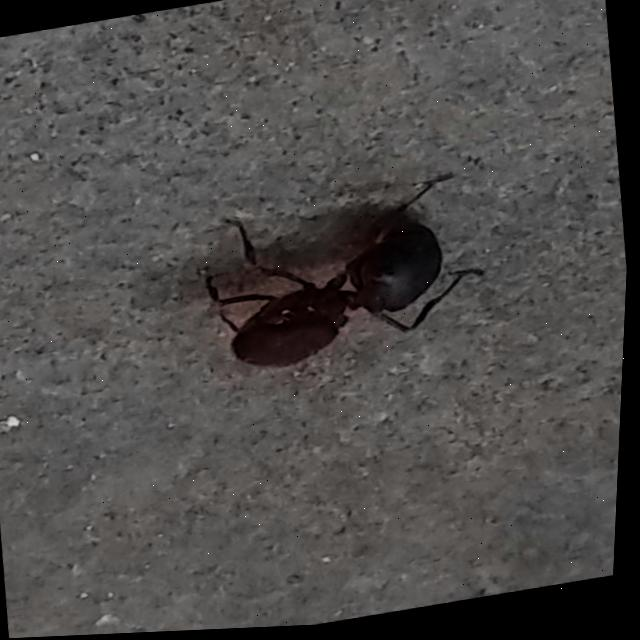Alive-Female-Dealate: (197, 174, 497, 380)
